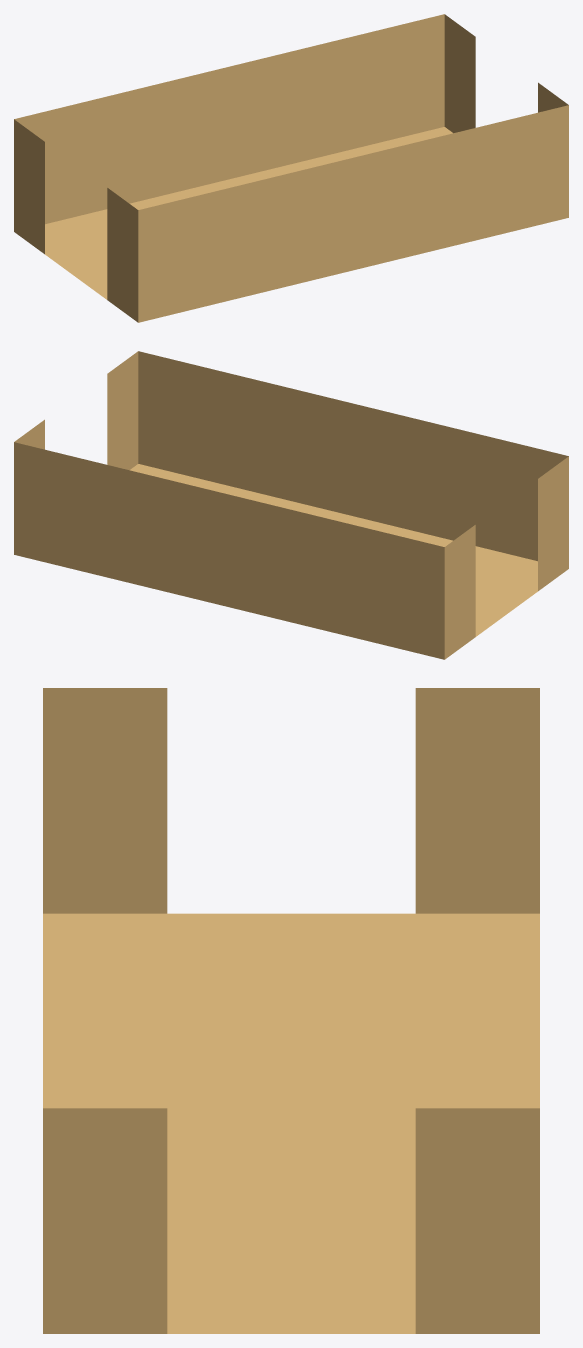
Rendered from thickhallway_90.glb.
3 views of the same model, one above another, from view 1: azimuth 30°, elevation 25°; view 2: azimuth 150°, elevation 25°; view 3: azimuth 270°, elevation 25° (orthographic). The views are drawn at different scales.
Parts seen in each view (by area): view 1: thickhallway_90; view 2: thickhallway_90; view 3: thickhallway_90.
Boxes of the visible parts, x1,y1,x2,y2 form: thickhallway_90: (14, 14, 568, 322); thickhallway_90: (14, 351, 568, 659); thickhallway_90: (43, 688, 539, 1333).
Size of the model in its own units: 4 by 1 by 2.
